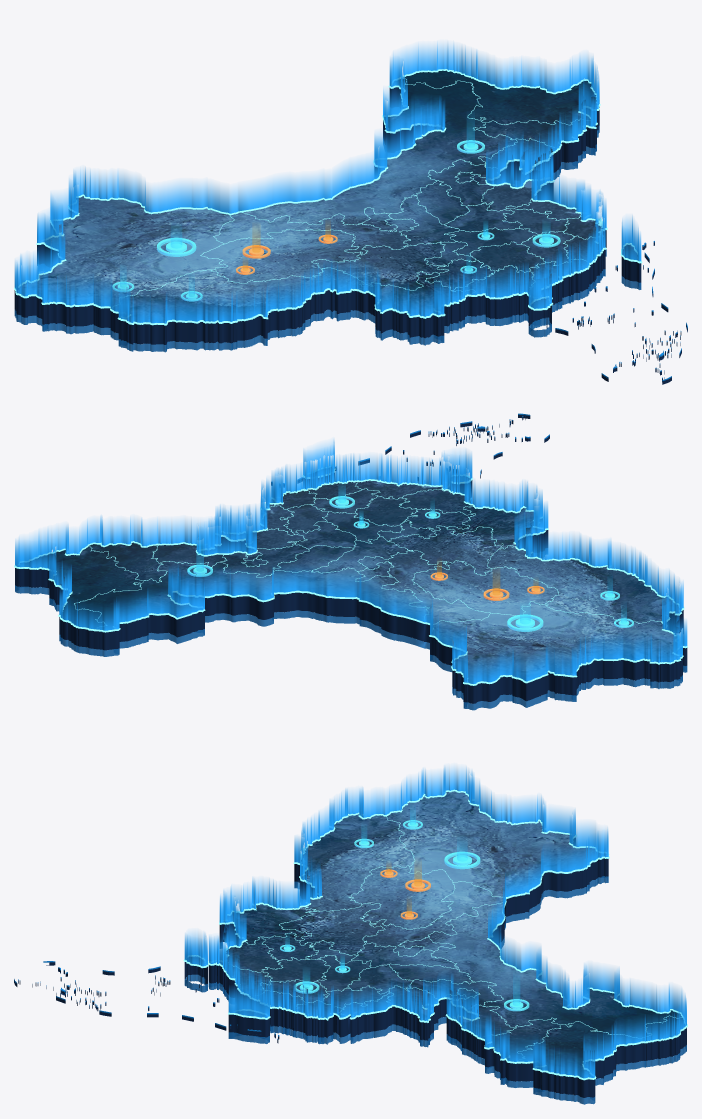
The model's file is map.glb.
3 views of the same model, one above another, from view 1: azimuth 30°, elevation 25°; view 2: azimuth 150°, elevation 25°; view 3: azimuth 270°, elevation 25° (orthographic). The views are drawn at different scales.
Visible parts, largest first — view 1: 形状结合.004, 形状结合.005, 形状结合.003, 形状结合.001, 外轮廓, 内部分割线.001, 100000_JD, 圆环.002; view 2: 形状结合.004, 形状结合.005, 形状结合.003, 形状结合.001, 外轮廓, 内部分割线.001, 100000_JD, 圆环.002; view 3: 形状结合.004, 形状结合.005, 形状结合.003, 形状结合.001, 外轮廓, 内部分割线.001, 100000_JD, 圆环.002.
Boxes of the visible parts, x1=… form: 形状结合.004: x1=18, y1=70, x2=636, y2=318; 形状结合.005: x1=14, y1=42, x2=641, y2=323; 形状结合.003: x1=14, y1=87, x2=641, y2=344; 形状结合.001: x1=14, y1=107, x2=641, y2=352; 外轮廓: x1=14, y1=69, x2=642, y2=325; 内部分割线.001: x1=126, y1=78, x2=592, y2=296; 100000_JD: x1=555, y1=241, x2=687, y2=384; 圆环.002: x1=157, y1=229, x2=196, y2=256; 形状结合.004: x1=29, y1=477, x2=678, y2=679; 形状结合.005: x1=15, y1=439, x2=687, y2=683; 形状结合.003: x1=15, y1=473, x2=687, y2=703; 形状结合.001: x1=15, y1=497, x2=687, y2=710; 外轮廓: x1=14, y1=465, x2=687, y2=685; 内部分割线.001: x1=74, y1=481, x2=660, y2=623; 100000_JD: x1=271, y1=413, x2=549, y2=487; 圆环.002: x1=507, y1=606, x2=543, y2=631; 形状结合.004: x1=189, y1=791, x2=683, y2=1073; 形状结合.005: x1=184, y1=766, x2=686, y2=1078; 形状结合.003: x1=184, y1=838, x2=686, y2=1097; 形状结合.001: x1=184, y1=876, x2=686, y2=1104; 外轮廓: x1=183, y1=789, x2=687, y2=1080; 内部分割线.001: x1=233, y1=816, x2=681, y2=1063; 100000_JD: x1=14, y1=961, x2=279, y2=1043; 圆环.002: x1=444, y1=843, x2=480, y2=869.
Size of the model in its own units: 70.36 by 12.44 by 69.18.
Materials: 11 (4 with a texture image).
